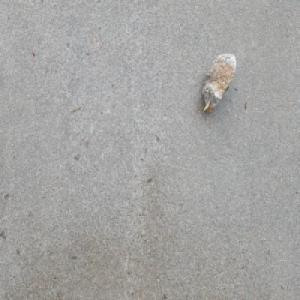Rock: (200, 51, 237, 113)
